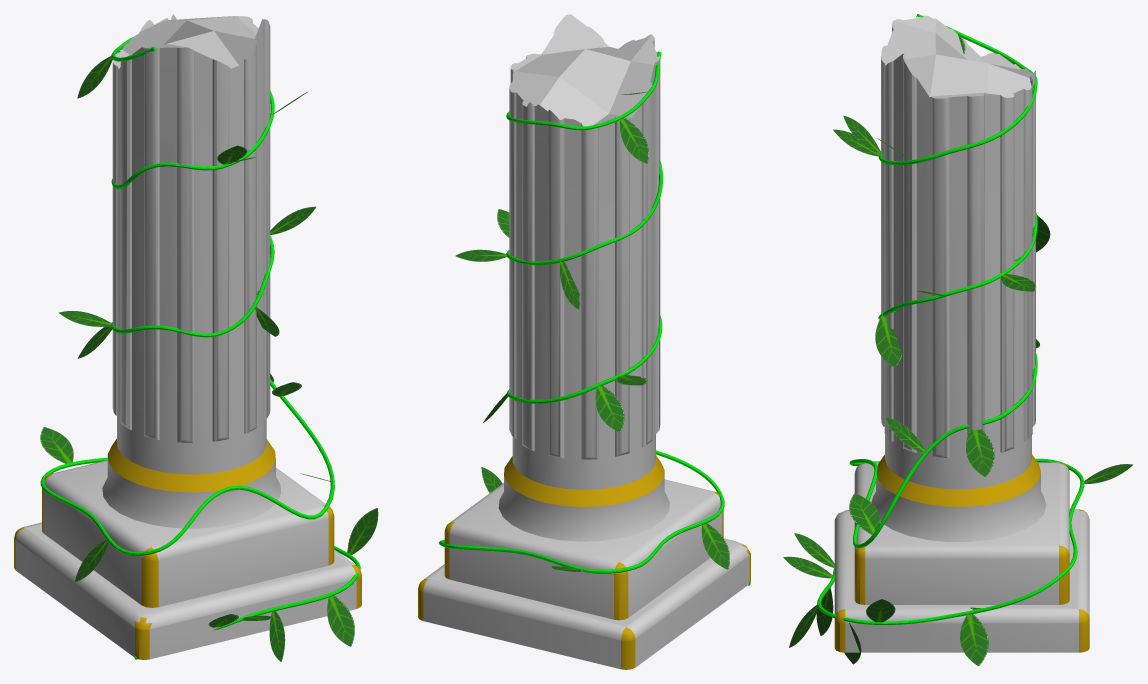
File: collume2.fbx
3 views of the same model, side by side, from view 1: azimuth 30°, elevation 25°; view 2: azimuth 150°, elevation 25°; view 3: azimuth 270°, elevation 25° (orthographic). The views are drawn at different scales.
Parts seen in each view (by area): view 1: Cylinder.001; view 2: Cylinder.001; view 3: Cylinder.001.
Boxes of the visible parts, box(x1,y1,x2,y2) form: Cylinder.001: box(14, 14, 378, 661); Cylinder.001: box(418, 14, 750, 669); Cylinder.001: box(783, 14, 1132, 665).
Size of the model in its own units: 126 by 256 by 138.
